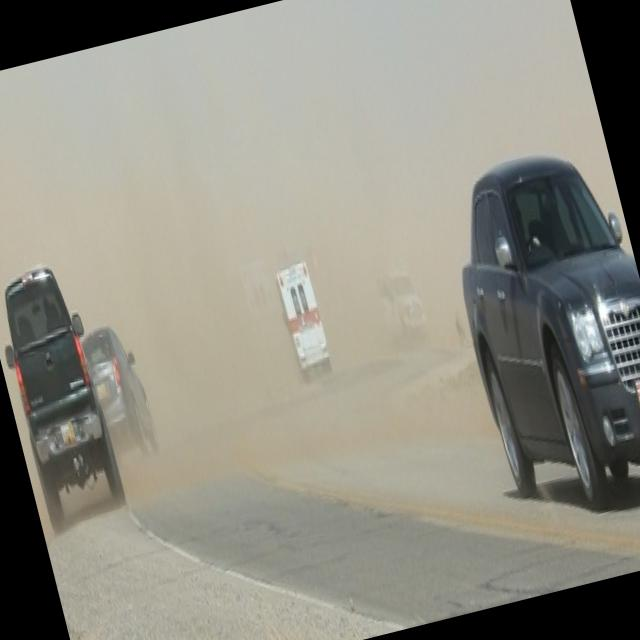car: (420, 137, 640, 533), (0, 266, 127, 531), (78, 316, 159, 458), (268, 252, 336, 381), (375, 266, 431, 347)
